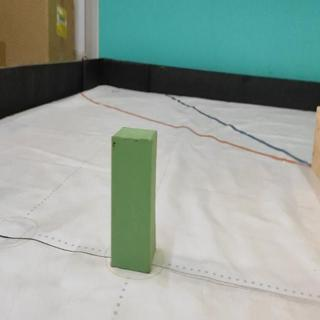greenbox: (110, 126, 156, 272)
